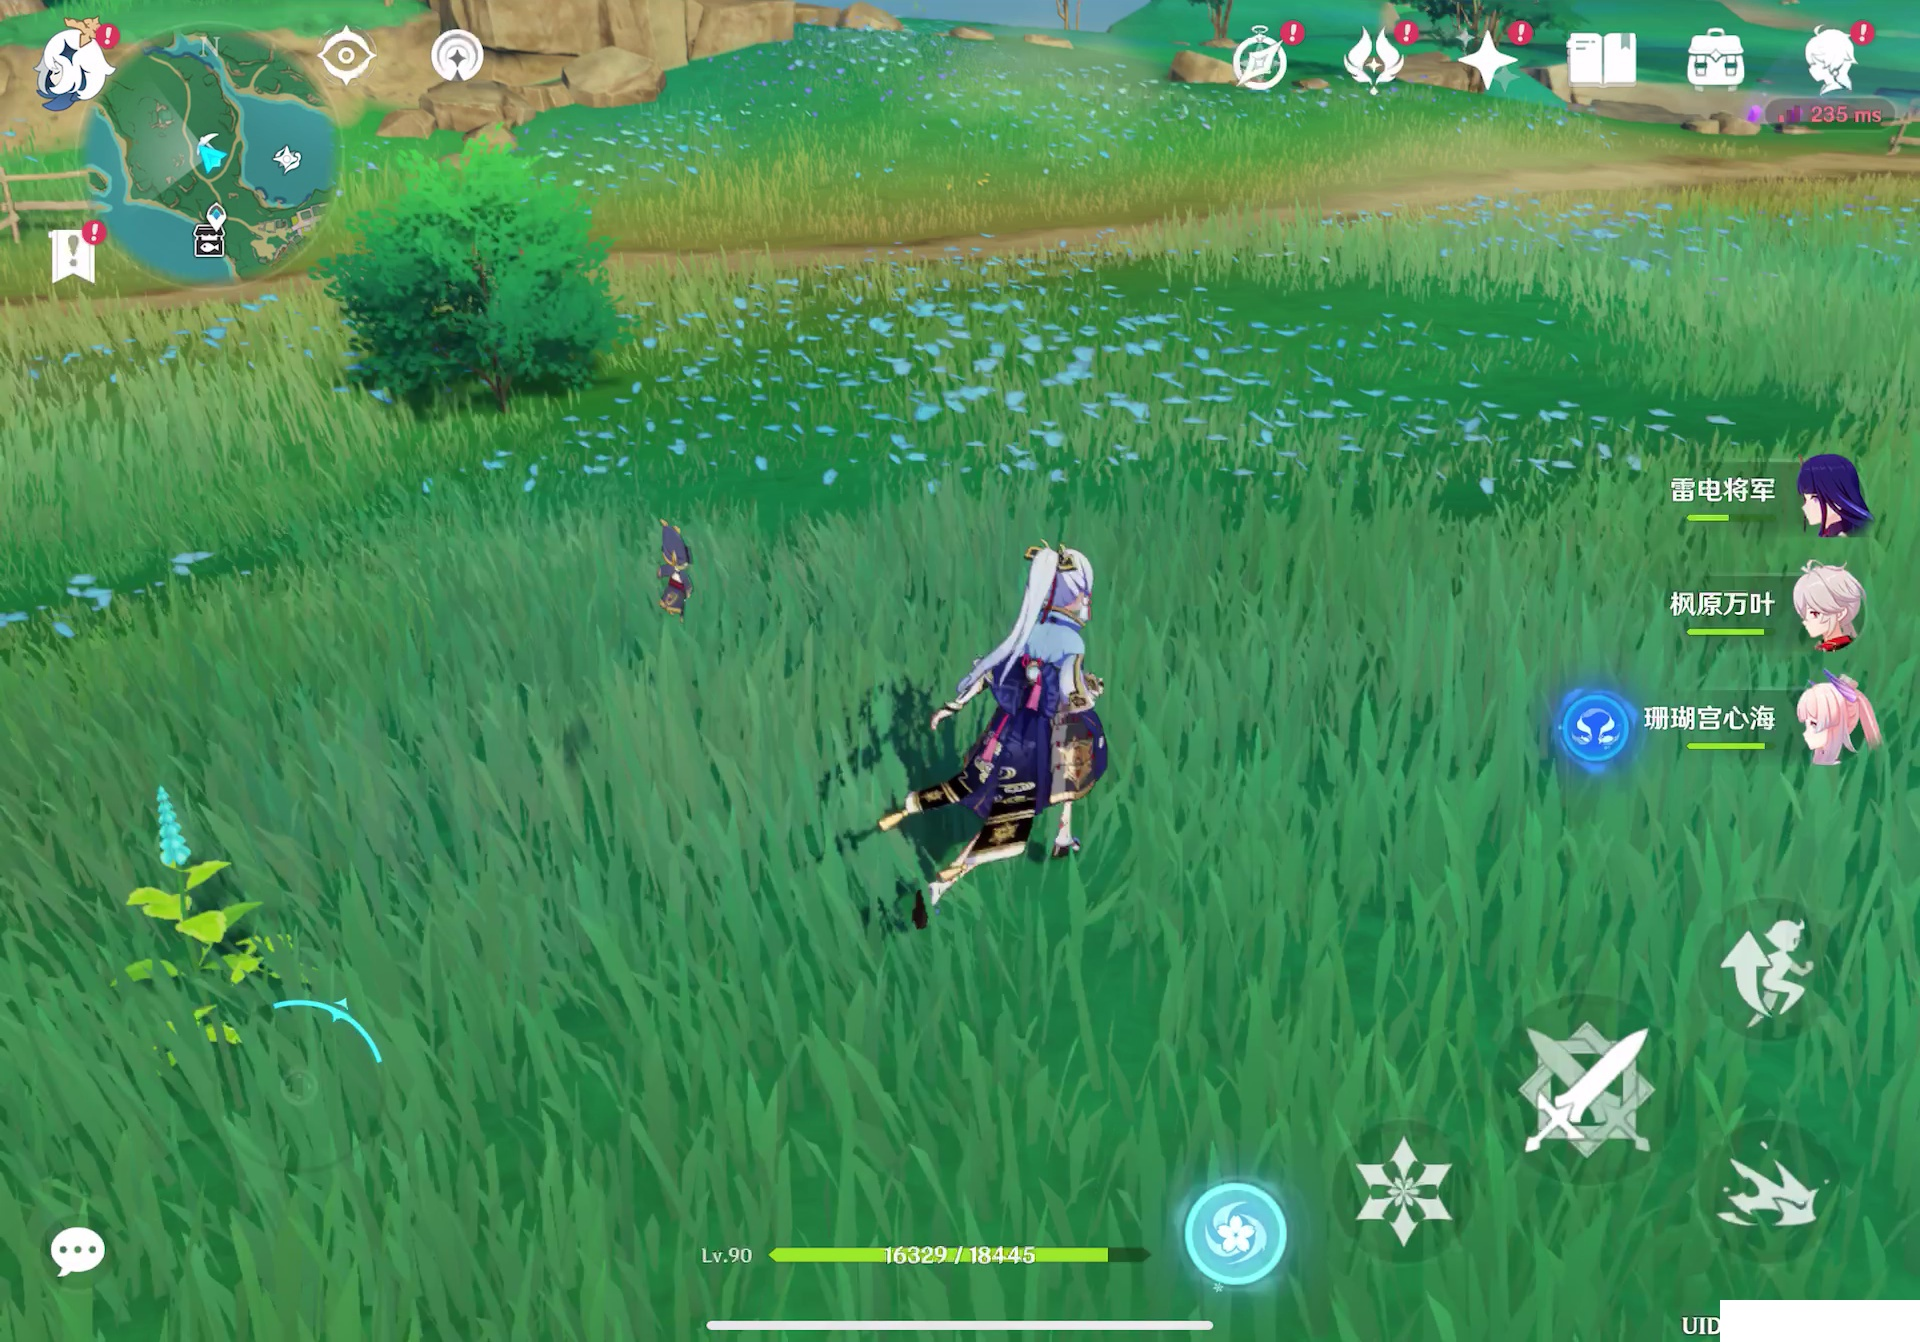没用的薄荷: (107, 783, 302, 1036)
神里绫龟: (853, 524, 1150, 941)
